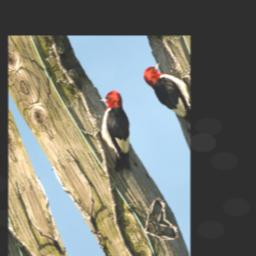Woodpecker: (79, 87, 153, 183)
